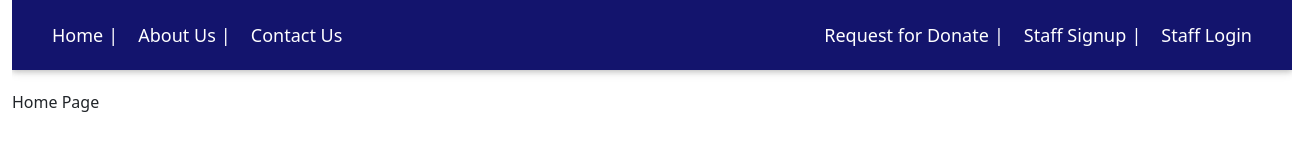
Test: Navbar Component › navigates to the correct route on link click
Click the link "Home": click(78, 35) [52,22,103,48]
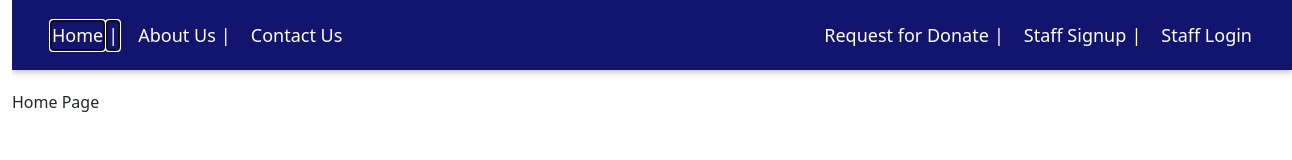
Expected: the text "Home Page" is shown, [12,91,99,113]
Click the link "About Us": click(177, 35) [138,22,216,48]
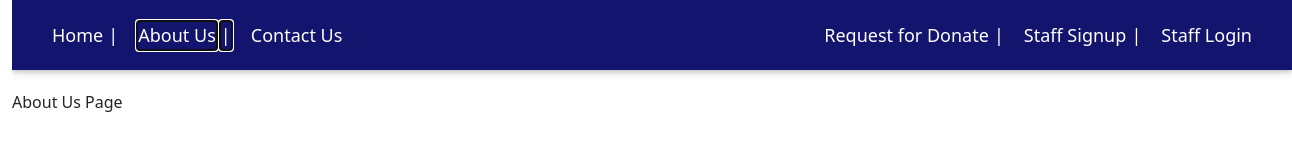
Expected: the text "About Us Page" is shown, [12,91,123,113]
Click the link "Contact Us": click(297, 35) [251,22,342,48]
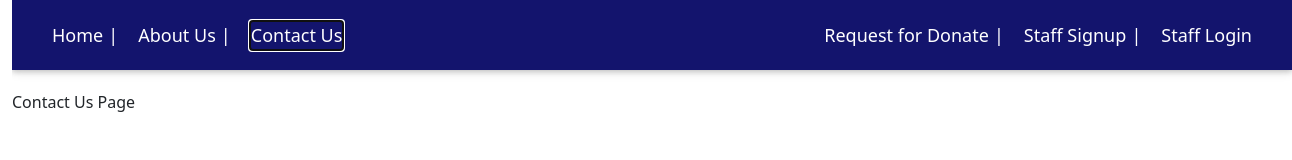
Expected: the text "Contact Us Page" is shown, [12,91,135,113]
# Clicking "Request for Donate" will set userDataShow to simulate user being logged in
Click the link "Request for Donate": click(906, 35) [824,22,989,48]
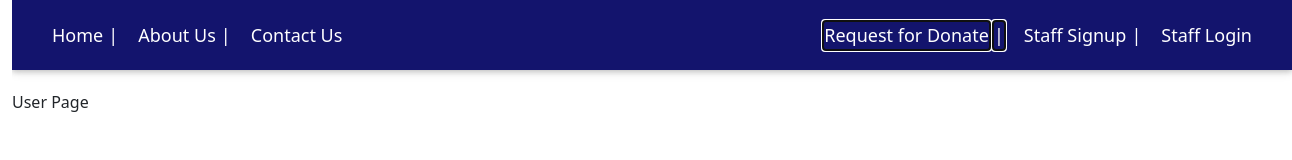
Expected: the text "User Page" is shown, [12,91,89,113]
